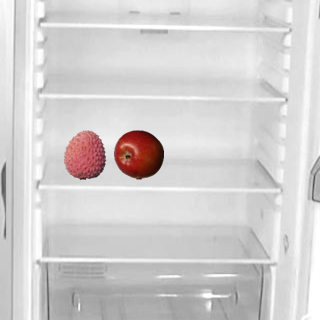Apple Braeburn: (113, 129, 163, 179)
Lychee: (59, 129, 109, 179)
